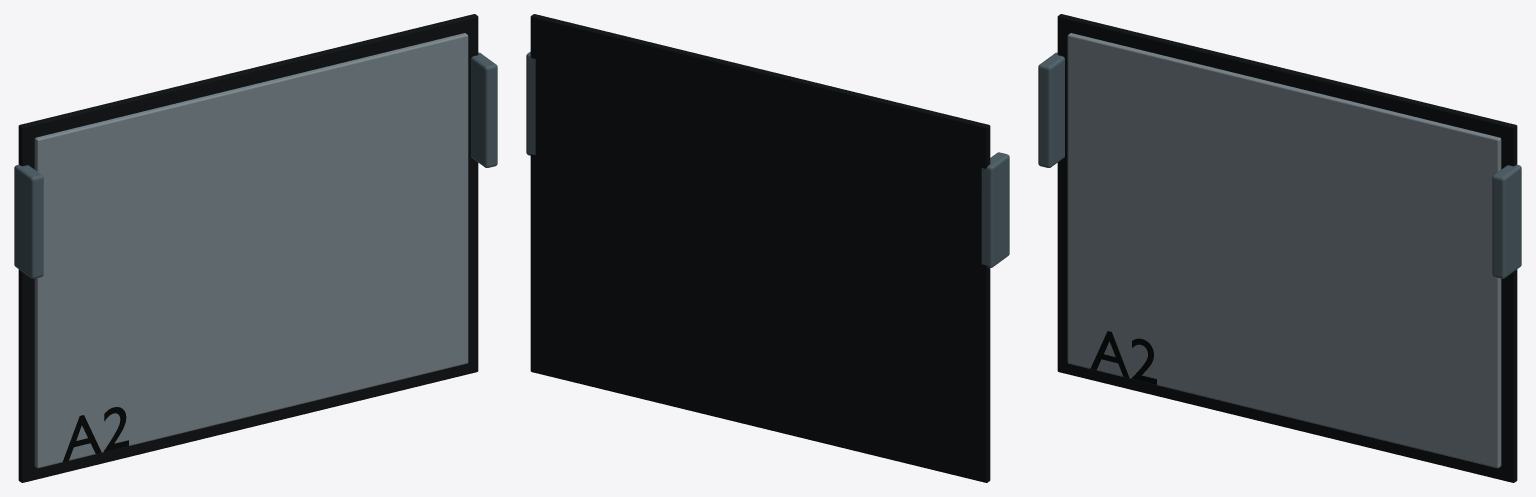
File: slot_a2.obj
3 views of the same model, side by side, from view 1: azimuth 30°, elevation 25°; view 2: azimuth 150°, elevation 25°; view 3: azimuth 330°, elevation 25° (orthographic).
Visible parts, largest first — view 1: flex__slot_a2__insert, flex__slot_a2__recess, flex__slot_a2__locator, flex__slot_a2__locator.001, flex__slot_a2__id; view 2: flex__slot_a2__recess, flex__slot_a2__locator, flex__slot_a2__locator.001; view 3: flex__slot_a2__insert, flex__slot_a2__recess, flex__slot_a2__locator.001, flex__slot_a2__locator, flex__slot_a2__id.
Boxes of the visible parts, x1,y1,x2,y2 form: flex__slot_a2__insert: [34, 33, 468, 468]; flex__slot_a2__recess: [18, 14, 478, 482]; flex__slot_a2__locator: [14, 164, 43, 278]; flex__slot_a2__locator.001: [471, 52, 497, 167]; flex__slot_a2__id: [63, 407, 128, 461]; flex__slot_a2__recess: [530, 14, 990, 482]; flex__slot_a2__locator: [981, 152, 1009, 267]; flex__slot_a2__locator.001: [526, 51, 535, 155]; flex__slot_a2__insert: [1067, 33, 1501, 468]; flex__slot_a2__recess: [1057, 14, 1517, 482]; flex__slot_a2__locator.001: [1492, 164, 1521, 278]; flex__slot_a2__locator: [1038, 52, 1064, 167]; flex__slot_a2__id: [1090, 331, 1156, 384].
Size of the model in its own units: 0.144 by 0.105 by 0.01.
